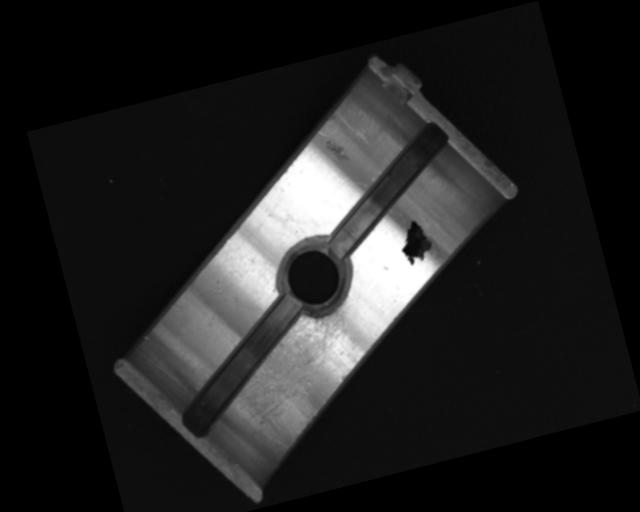blot: (393, 215, 436, 267)
bruise: (322, 135, 352, 167)
gap: (158, 290, 326, 438), (308, 118, 469, 257)
hole: (267, 230, 361, 325)
scratch: (217, 300, 376, 462)
